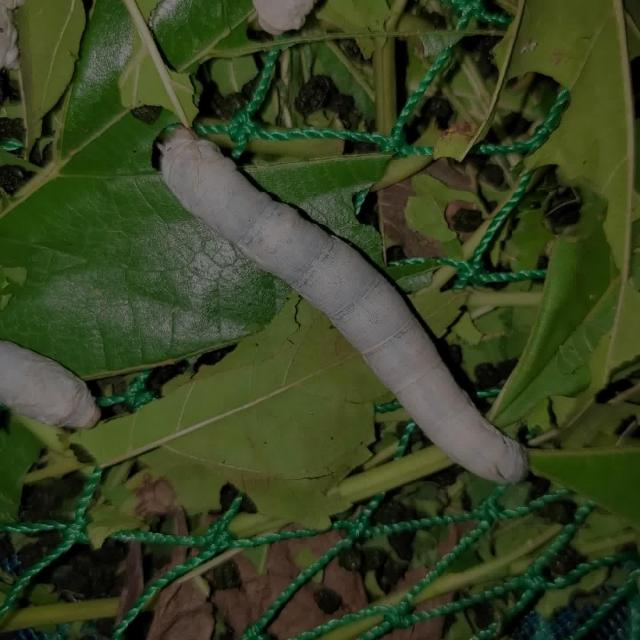Healthy: (146, 110, 592, 495)
